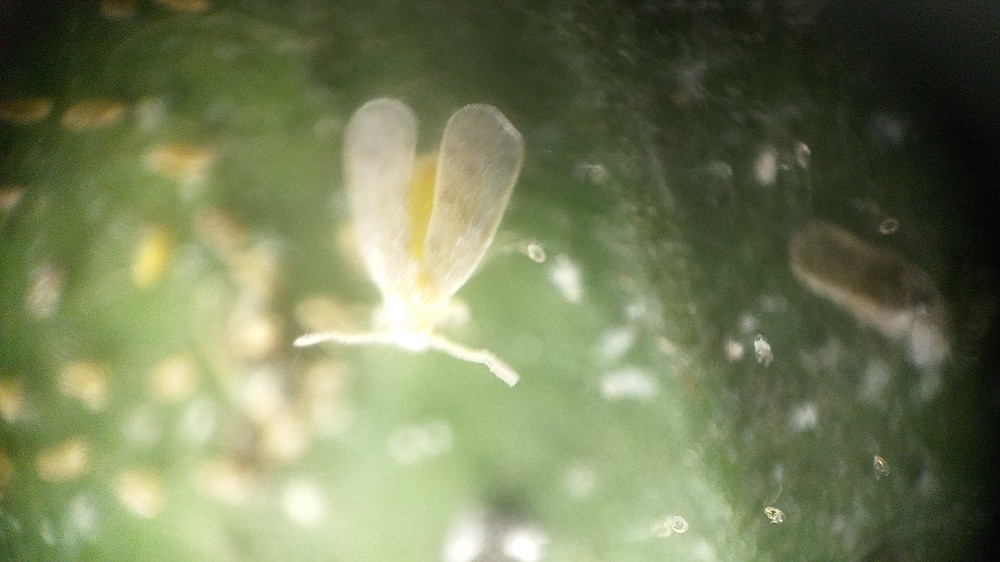Mosca Blanca: (272, 90, 581, 394)
